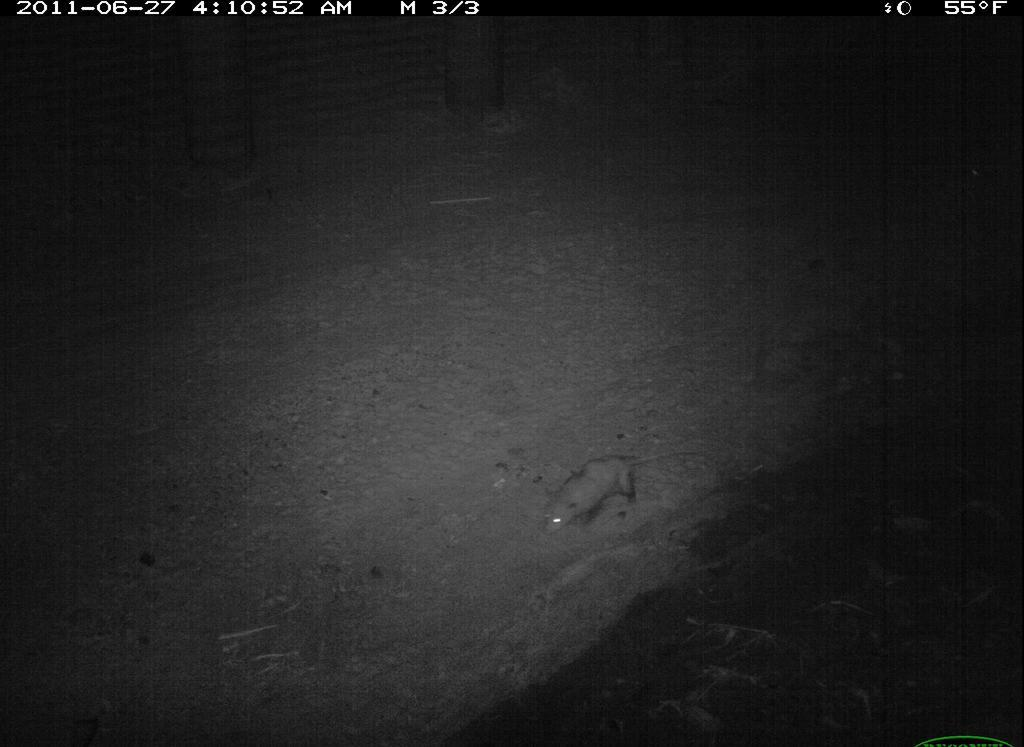opossum: (513, 419, 734, 548)
